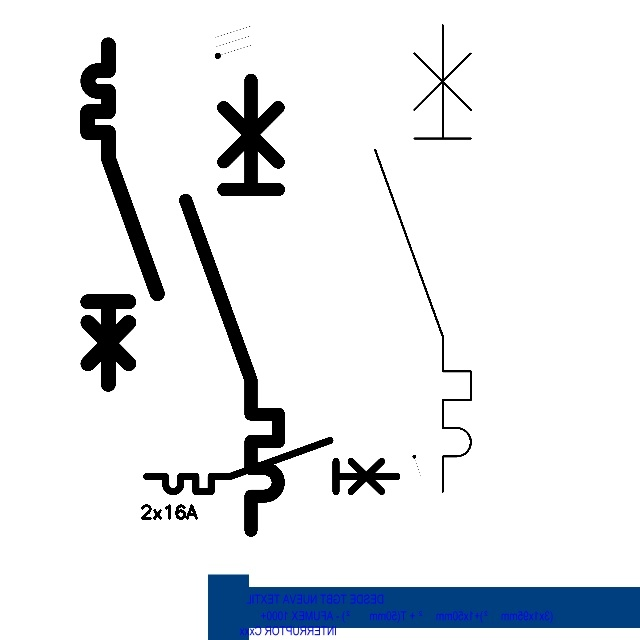interruptor_termomagnetico: (363, 13, 483, 504), (174, 68, 290, 542), (79, 36, 166, 393), (140, 434, 403, 498)
